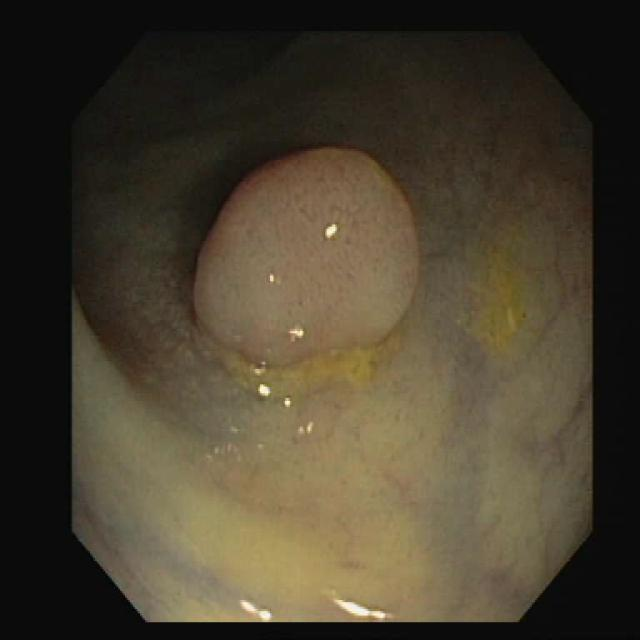tumor: (195, 147, 417, 351)
